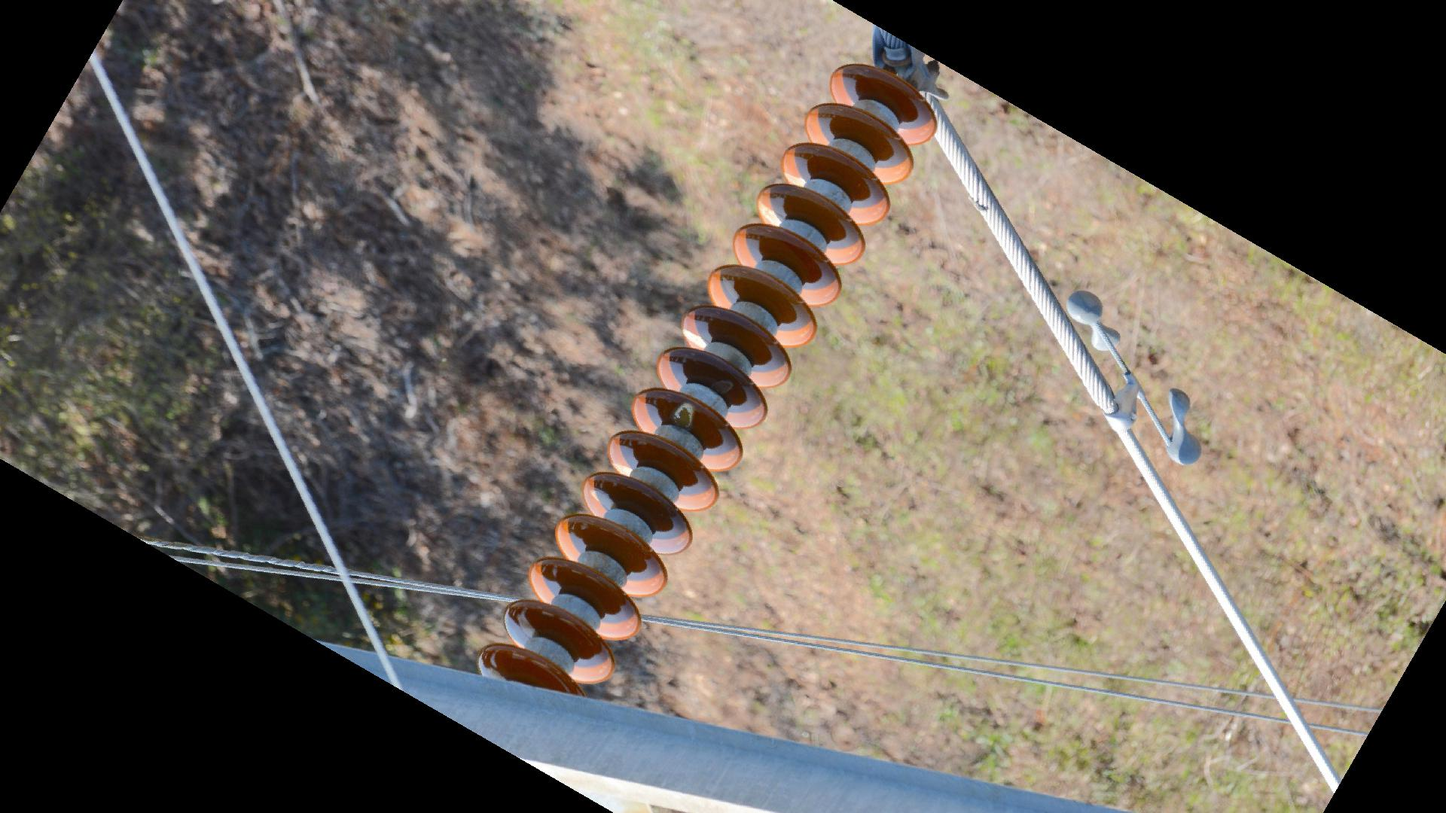insulator: (473, 56, 938, 700)
insulator_flashover: (756, 200, 783, 229), (671, 400, 697, 429), (782, 170, 808, 189)
